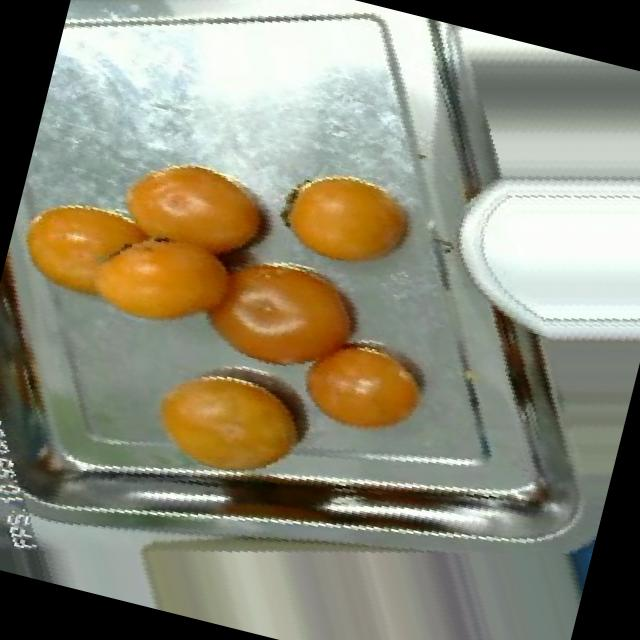Fruit: (168, 214, 408, 406), (91, 124, 309, 289), (126, 331, 339, 498), (253, 138, 445, 300), (276, 306, 458, 462), (0, 168, 177, 326), (534, 499, 603, 640)
